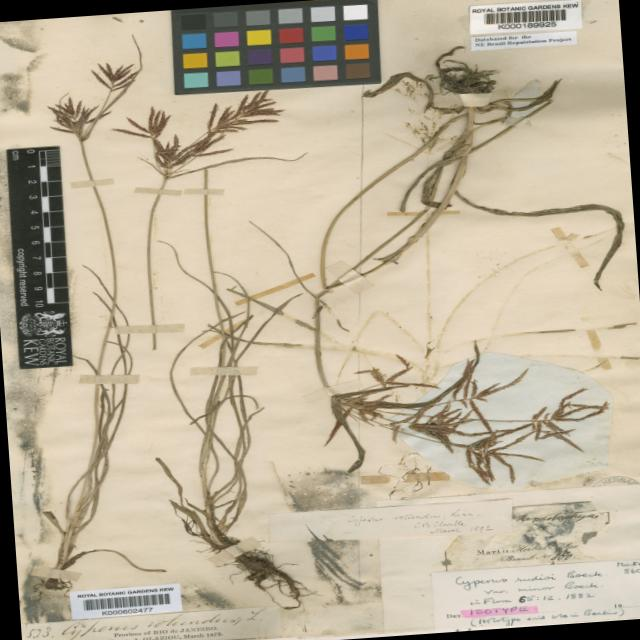cyperus: (304, 334, 612, 491), (113, 85, 290, 174), (38, 54, 152, 143)
